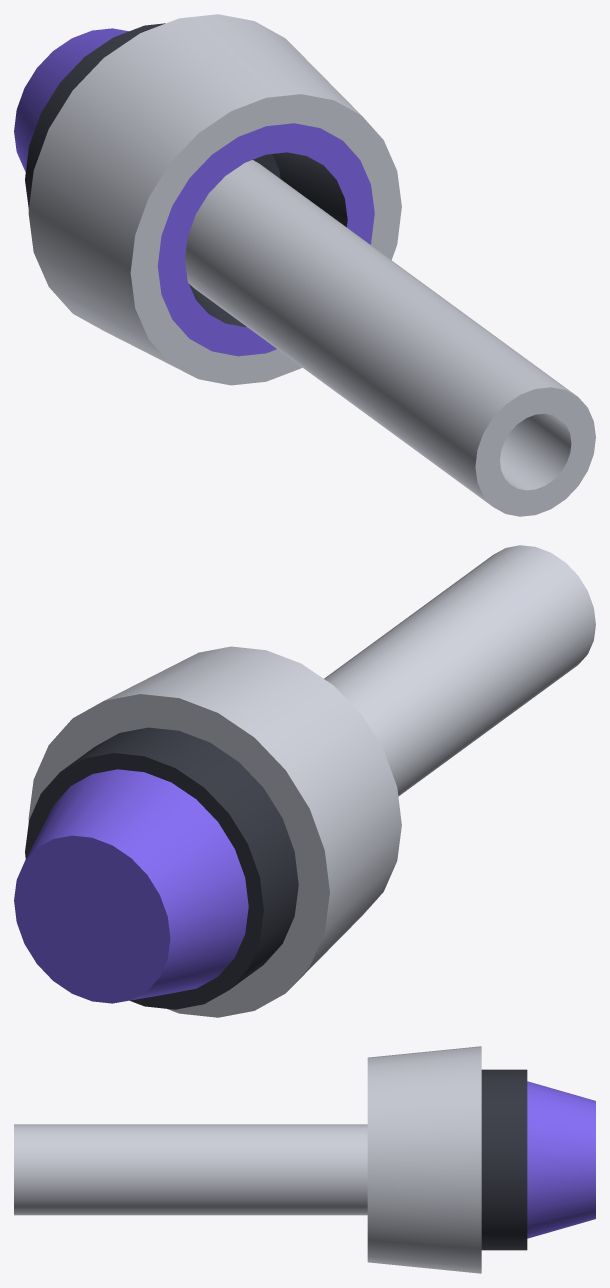
The model's file is plungles.fbx.
3 renders of one model, top to bottom at view 1: azimuth 30°, elevation 25°; view 2: azimuth 150°, elevation 25°; view 3: azimuth 270°, elevation 25°, orthographic. The views are drawn at different scales.
Parts seen in each view (by area): view 1: mergedBlocks; view 2: mergedBlocks; view 3: mergedBlocks.
Boxes of the visible parts, x1,y1,x2,y2 form: mergedBlocks: (14, 14, 595, 516); mergedBlocks: (14, 545, 595, 1017); mergedBlocks: (14, 1046, 595, 1273).
Size of the model in its own units: 2.5 by 2.5 by 6.37.
